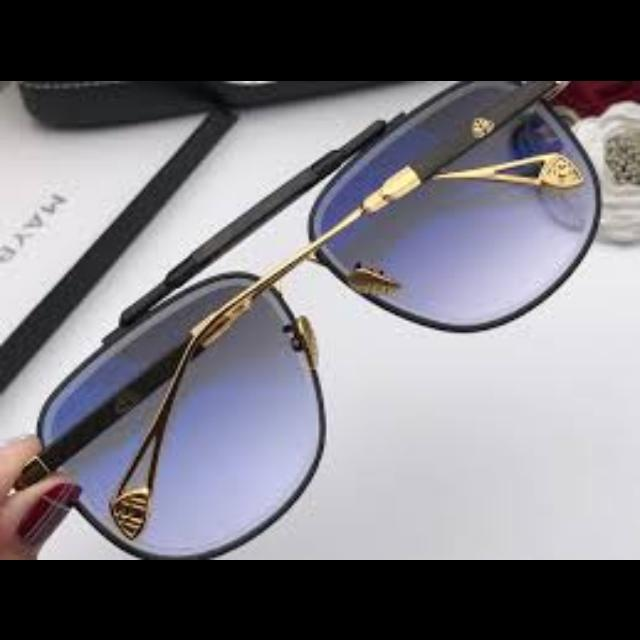sunglasses: (0, 80, 598, 560)
